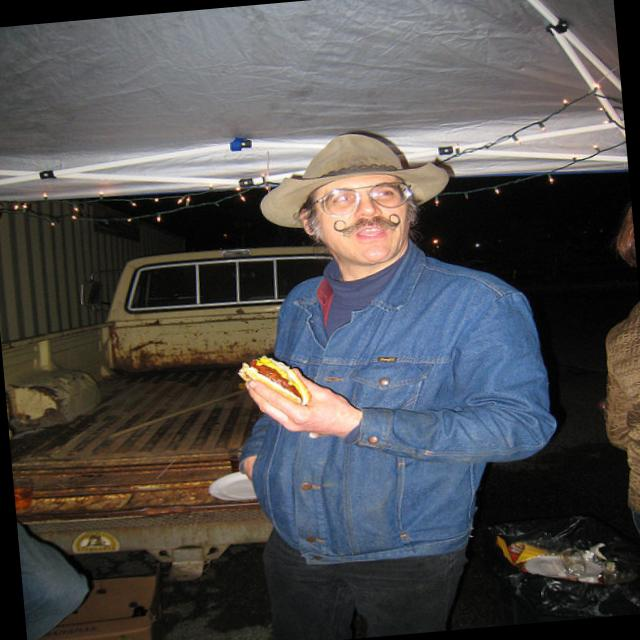Vehicle: (1, 243, 354, 595)
